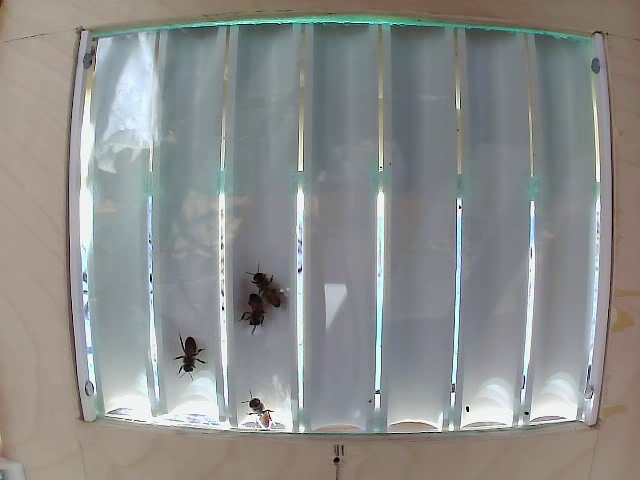bee: (245, 268, 287, 321), (241, 389, 283, 433), (173, 325, 208, 375), (239, 287, 270, 333)
